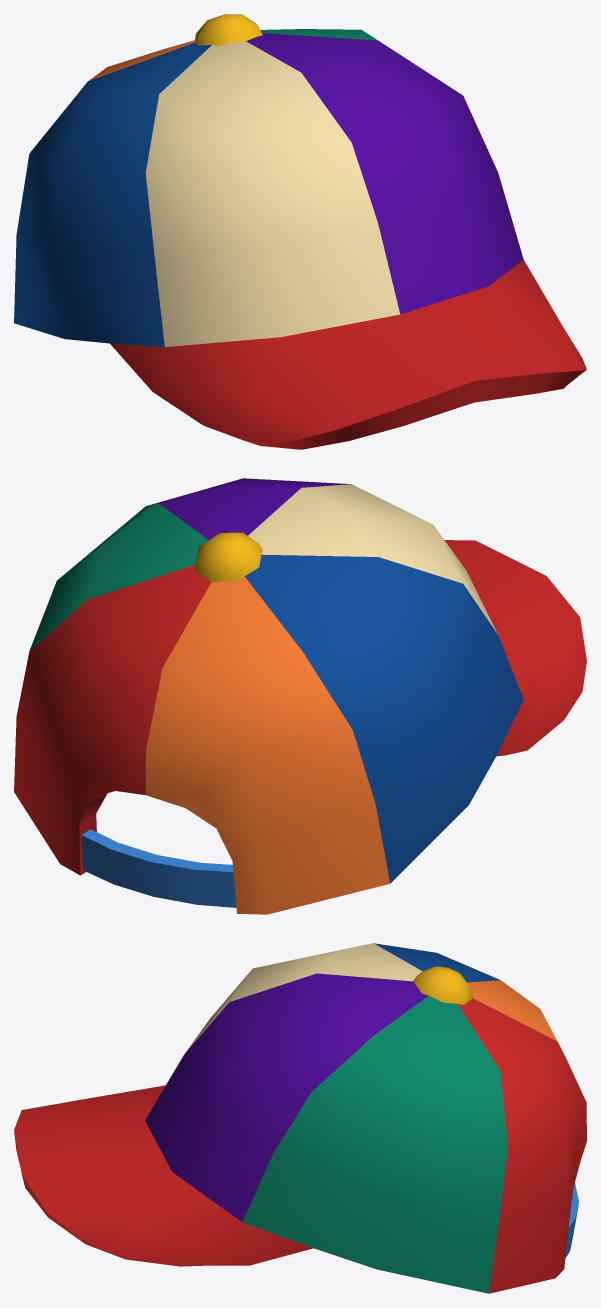
The model's file is Headgear_4.fbx.
3 views of the same model, one above another, from view 1: azimuth 30°, elevation 25°; view 2: azimuth 150°, elevation 25°; view 3: azimuth 270°, elevation 25° (orthographic). The views are drawn at different scales.
Parts seen in each view (by area): view 1: Headgear_4; view 2: Headgear_4; view 3: Headgear_4.
Boxes of the visible parts, x1,y1,x2,y2 form: Headgear_4: (14, 14, 586, 449); Headgear_4: (14, 478, 586, 914); Headgear_4: (14, 943, 586, 1293).
Bounding box in the file's own units: 58.11 × 42.07 × 82.12.
